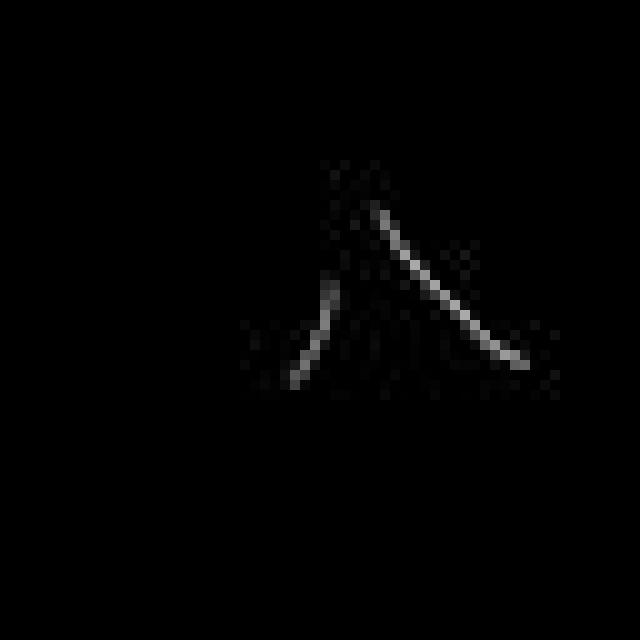8 -eight-: (278, 200, 541, 394)
